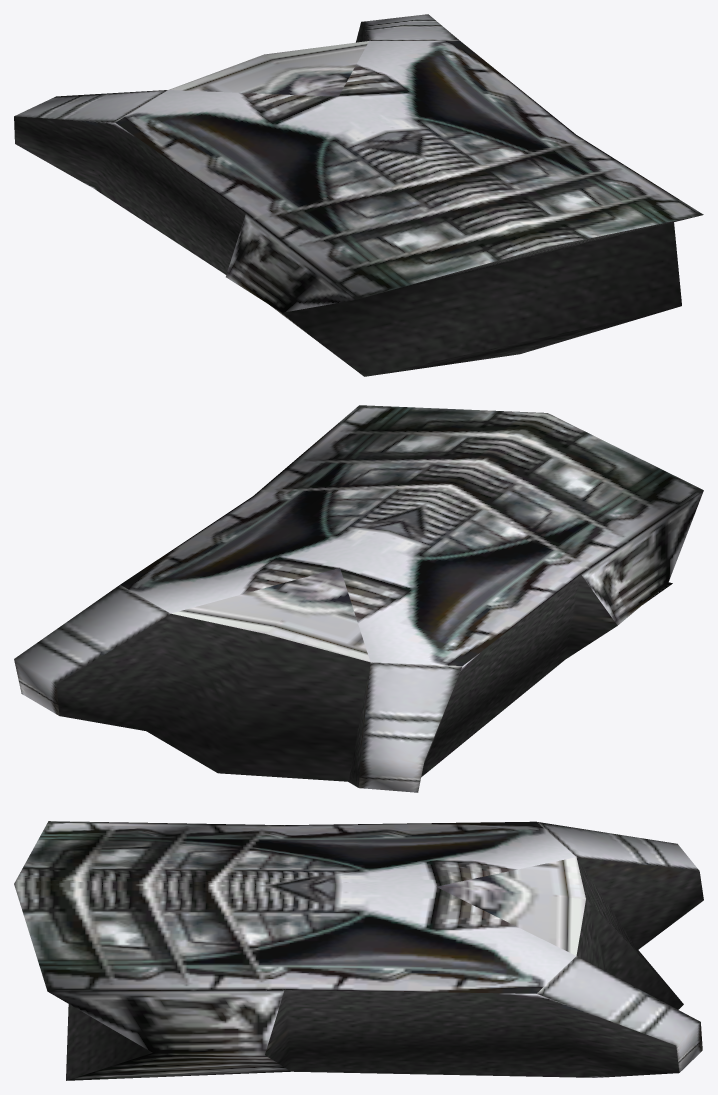
File: TorsoArmour6__EC.glb
3 views of the same model, one above another, from view 1: azimuth 30°, elevation 25°; view 2: azimuth 150°, elevation 25°; view 3: azimuth 270°, elevation 25° (orthographic).
Visible parts, largest first — view 1: TorsoArmour6; view 2: TorsoArmour6; view 3: TorsoArmour6.
Part boxes in pixels (box(x1,y1,x2,y2)): TorsoArmour6: box(14, 14, 703, 376); TorsoArmour6: box(14, 405, 703, 792); TorsoArmour6: box(14, 821, 703, 1080).
Size of the model in its own units: 20.42 by 6.02 by 29.24.
1 material, 1 textured.
